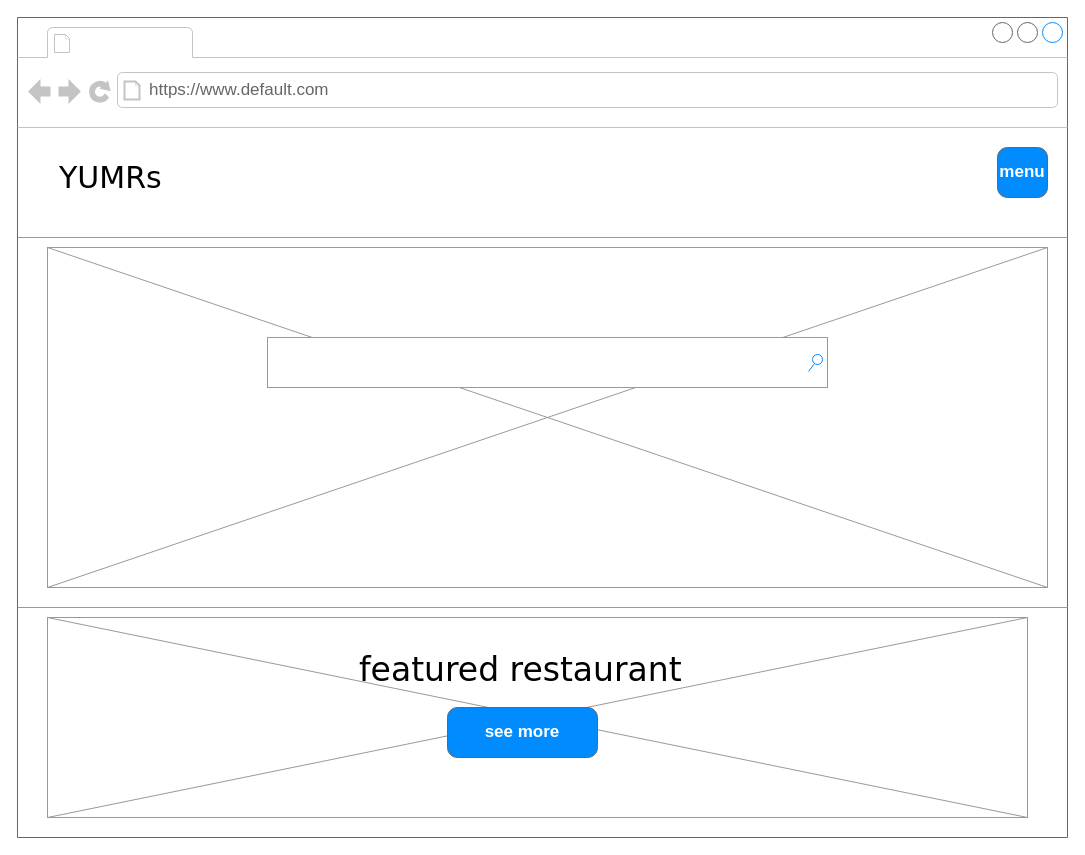
Some shapes in this 1085 by 855 pixel diagram are drawn without their labels. The shapes that lost their labels are listed below. From the top down, each one's box as (x1, y1, x2, y2) in pixels, then its label:
(76, 28, 188, 56): Page 1
(266, 336, 828, 388): whats your food mood?
